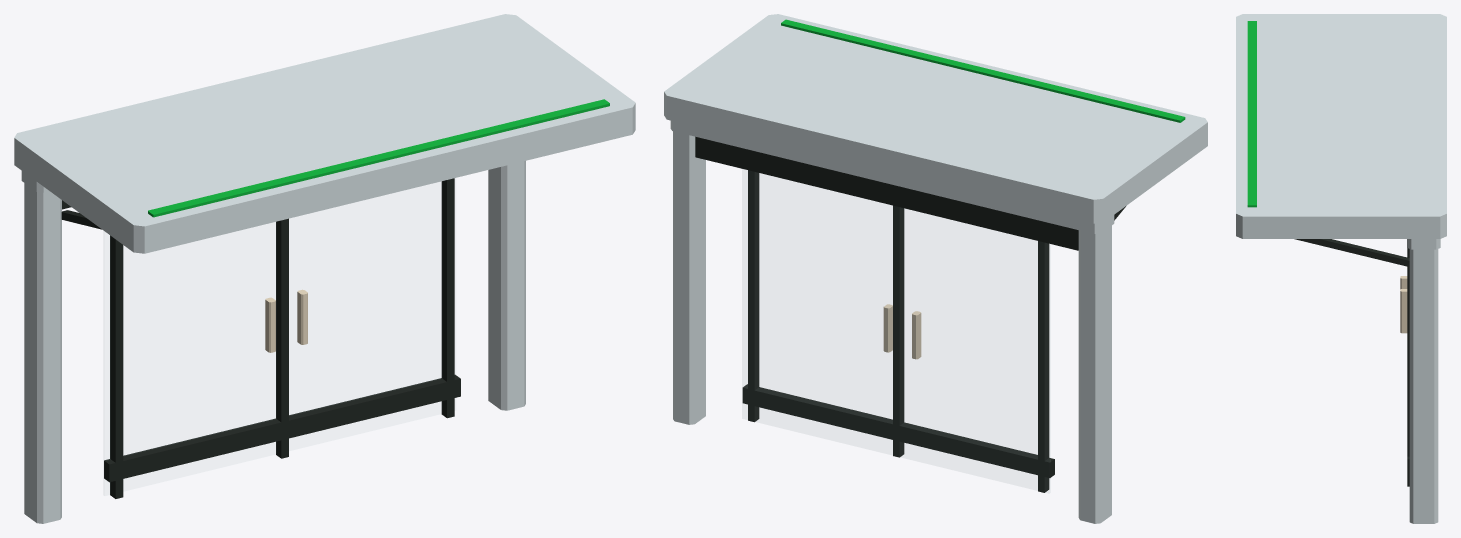
The model's file is gh_entry_portal_v01.glb.
3 views of the same model, side by side, from view 1: azimuth 30°, elevation 25°; view 2: azimuth 150°, elevation 25°; view 3: azimuth 270°, elevation 25° (orthographic). The views are drawn at different scales.
Visible parts, largest first — view 1: portal; view 2: portal; view 3: portal.
Part boxes in pixels (x1=…): portal: x1=14, y1=14, x2=635, y2=523; portal: x1=664, y1=14, x2=1207, y2=523; portal: x1=1236, y1=14, x2=1446, y2=523.
Size of the model in its own units: 5 by 3.6 by 2.2.
Materials: 2 (1 with a texture image).
